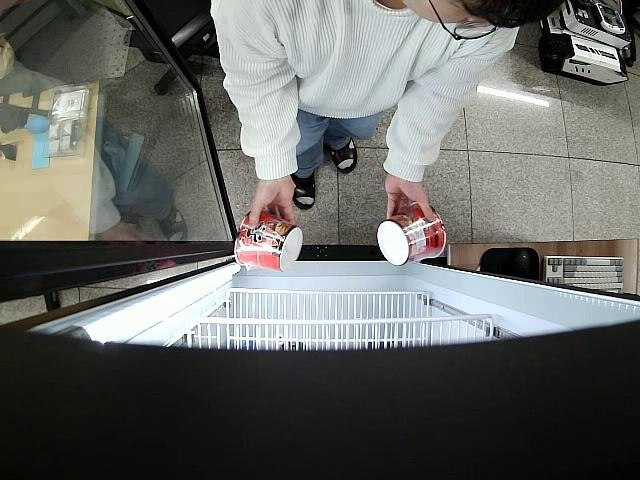00_hand: (385, 173, 435, 227), (250, 180, 296, 233)
01_shinRamen_L: (379, 198, 445, 266), (235, 211, 303, 275)
